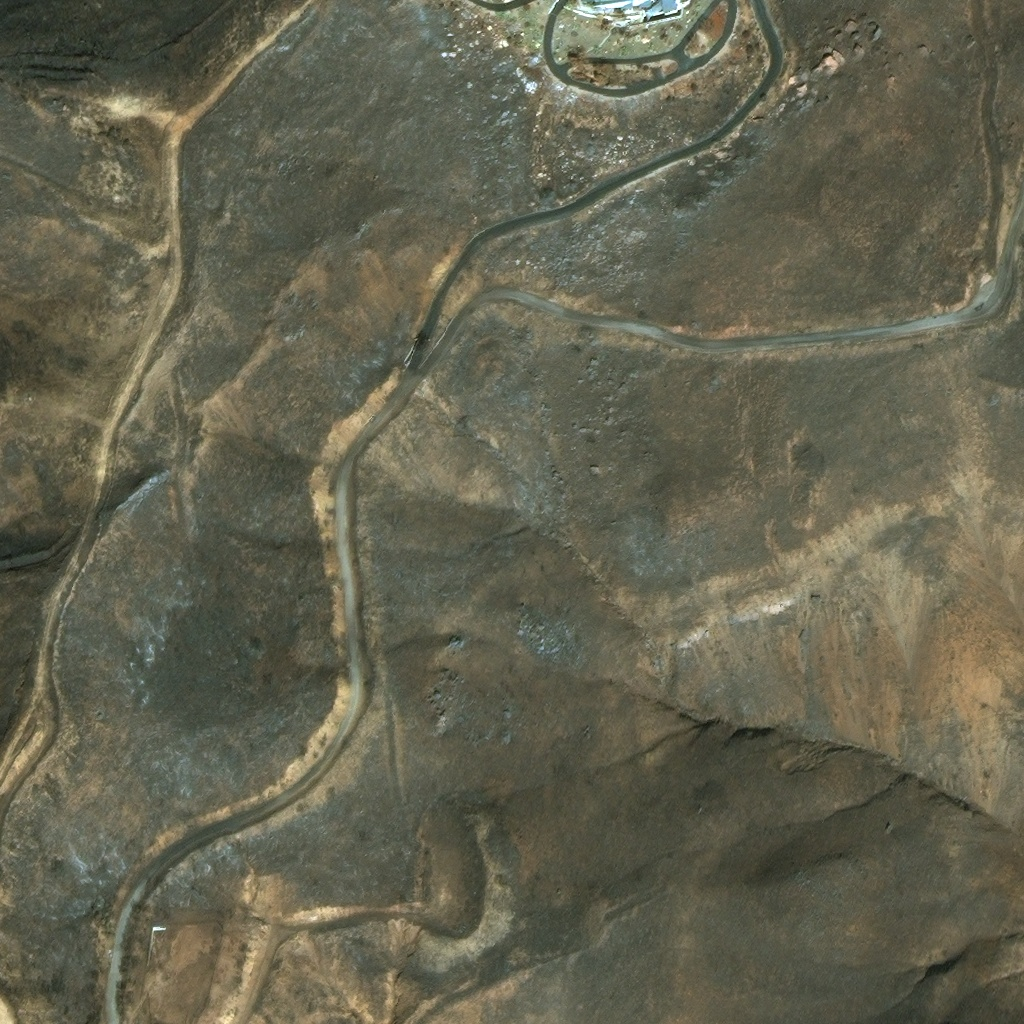0 no-damage: (578, 0, 677, 29)
